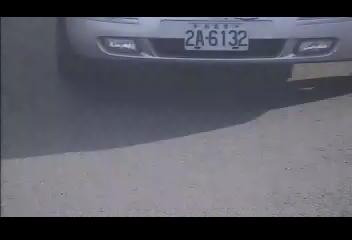plate: (183, 20, 251, 53)
